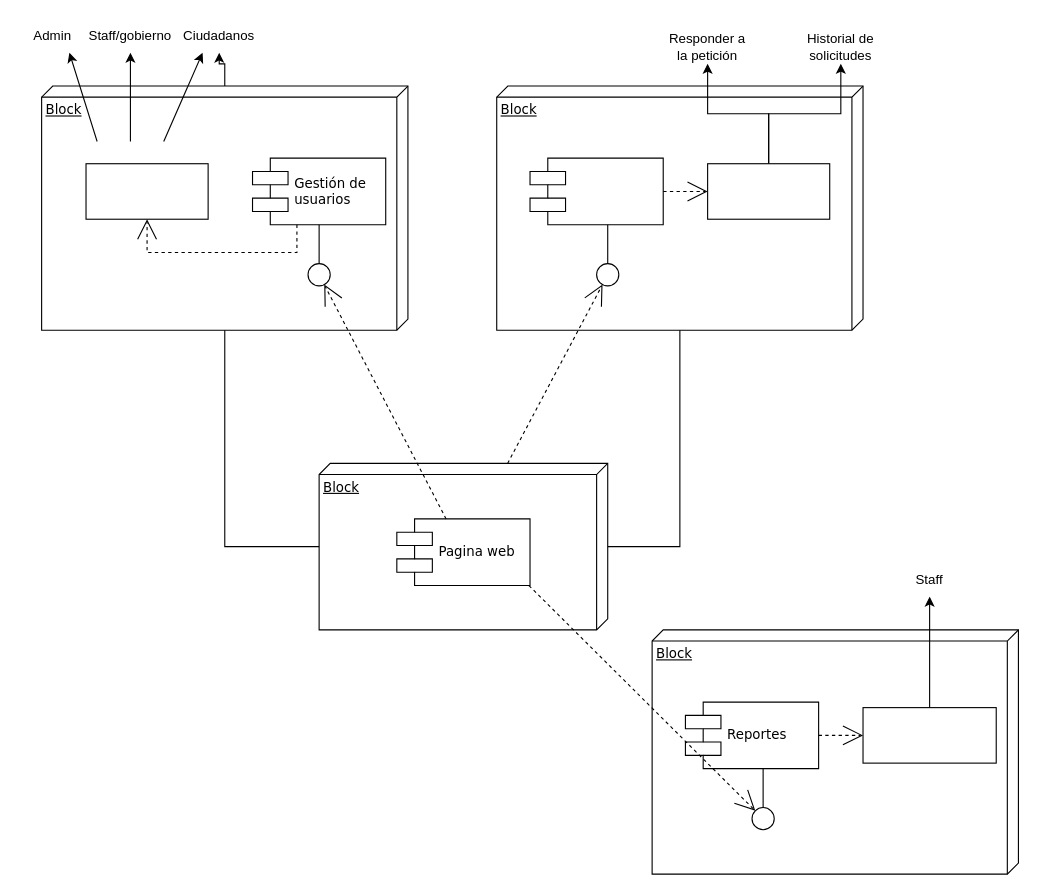
Image size: 1038x894. Some labels were removed from this diagram. The shapes that lost their labels are listed below. From the top down, each one's centre as x and y in pixels, then its label:
At point (146, 191): "«Login» Rol de usuarios".
At point (596, 191): "Solicitudes de servicio".
At point (768, 191): "Crear solicitud".
At point (929, 735): "Generar informes de solicitud".
